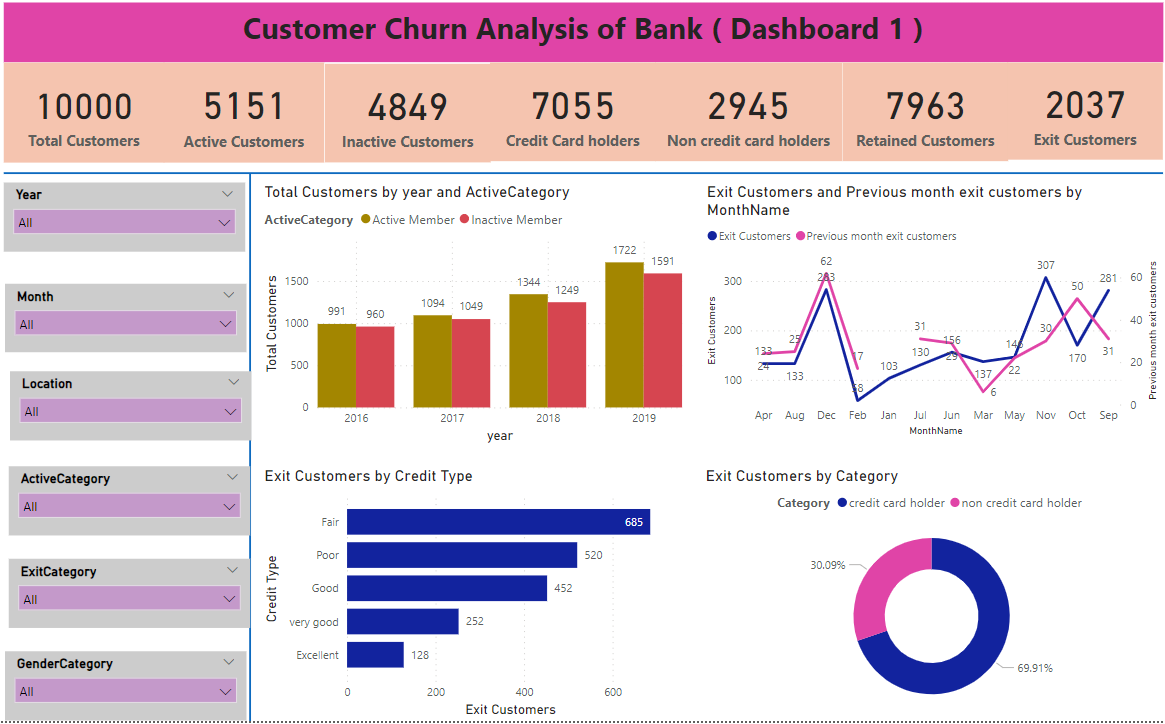

Layout of this report page (visuals, bound fields, positions):
{"tool":"powerbi","page":{"name":"Dashboard 1","canvas":[1280,800],"ordinal":0},"visuals":[{"type":"card","fields":{"Values":["Calculations.Total Customers"]},"box":[9.6,83.7,174.3,108.4],"z":0},{"type":"card","fields":{"Values":["Calculations.Active Customers"]},"box":[183.9,83.7,174.3,108.4],"z":1000},{"type":"card","fields":{"Values":["Calculations.Inactive Customers"]},"box":[358.1,85.1,179.8,107],"z":2000},{"type":"textbox","box":[9.6,19.2,1259.7,64.5],"z":3000},{"type":"card","fields":{"Values":["Calculations.Credit Card holders"]},"box":[537.9,83.7,179.8,107],"z":4000},{"type":"card","fields":{"Values":["Calculations.Non credit card holders"]},"box":[717.7,83.7,203.1,107],"z":5000},{"type":"card","fields":{"Values":["Calculations.Retained Customers"]},"box":[920.8,83.7,179.8,107],"z":6000},{"type":"card","fields":{"Values":["Calculations.Exit Customers"]},"box":[1100.5,83.7,168.8,105.7],"z":7000},{"type":"shape","box":[9.6,137.2,1259.7,134.5],"z":8000},{"type":"shape","box":[0,204.5,554.4,595.5],"z":9000},{"type":"slicer","fields":{"Values":["DateMasters.year"]},"box":[9.6,214.1,262.1,75.5],"z":10000},{"type":"slicer","fields":{"Values":["DateMasters.MonthName"]},"box":[11,325.2,262.1,74.1],"z":11000},{"type":"slicer","fields":{"Values":["Geography.GeographyLocation"]},"box":[16.5,419.9,262.1,75.5],"z":12000},{"type":"slicer","fields":{"Values":["ActiveCustomer.ActiveCategory"]},"box":[15.1,522.8,262.1,75.5],"z":13000},{"type":"slicer","fields":{"Values":["ExitCustomer.ExitCategory"]},"box":[15.1,623,262.1,75.5],"z":14000},{"type":"slicer","fields":{"Values":["Gender.GenderCategory"]},"box":[11,724.5,262.1,75.5],"z":15000},{"type":"clusteredColumnChart","fields":{"Y":["Calculations.Total Customers"],"Series":["ActiveCustomer.ActiveCategory"],"Category":["DateMasters.year","DateMasters.MonthName"]},"box":[288.2,214.1,463.8,288.2],"z":16000},{"type":"lineChart","fields":{"Y":["Calculations.Exit Customers"],"Category":["DateMasters.MonthName"],"Y2":["Calculations.Previous month exit customers"]},"box":[768.4,214.1,500.9,281.3],"z":17000},{"type":"clusteredBarChart","fields":{"Category":["Bank_Churn.Credit Type"],"Y":["Calculations.Exit Customers"]},"box":[288.2,522.8,465.2,277.2],"z":18000},{"type":"donutChart","fields":{"Category":["CreditCard.Category"],"Y":["Calculations.Exit Customers"]},"box":[768,523,501,277],"z":19000}]}

Visuals, with their boxes in screenshot pixels (x1, y1, x2, y2), scaled from the page's 1280x800 canvas onto the 1165x724 screenshot:
card - Calculations.Total Customers: (x1=9, y1=76, x2=167, y2=174)
card - Calculations.Active Customers: (x1=167, y1=76, x2=326, y2=174)
card - Calculations.Inactive Customers: (x1=326, y1=77, x2=490, y2=174)
textbox: (x1=9, y1=17, x2=1155, y2=76)
card - Calculations.Credit Card holders: (x1=490, y1=76, x2=653, y2=173)
card - Calculations.Non credit card holders: (x1=653, y1=76, x2=838, y2=173)
card - Calculations.Retained Customers: (x1=838, y1=76, x2=1002, y2=173)
card - Calculations.Exit Customers: (x1=1002, y1=76, x2=1155, y2=171)
shape: (x1=9, y1=124, x2=1155, y2=246)
shape: (x1=0, y1=185, x2=505, y2=723)
slicer - DateMasters.year: (x1=9, y1=194, x2=247, y2=262)
slicer - DateMasters.MonthName: (x1=10, y1=294, x2=249, y2=361)
slicer - Geography.GeographyLocation: (x1=15, y1=380, x2=254, y2=448)
slicer - ActiveCustomer.ActiveCategory: (x1=14, y1=473, x2=252, y2=541)
slicer - ExitCustomer.ExitCategory: (x1=14, y1=564, x2=252, y2=632)
slicer - Gender.GenderCategory: (x1=10, y1=656, x2=249, y2=723)
clusteredColumnChart - Calculations.Total Customers x ActiveCustomer.ActiveCategory: (x1=262, y1=194, x2=684, y2=455)
lineChart - Calculations.Exit Customers x DateMasters.MonthName: (x1=699, y1=194, x2=1155, y2=448)
clusteredBarChart - Bank_Churn.Credit Type x Calculations.Exit Customers: (x1=262, y1=473, x2=686, y2=723)
donutChart - CreditCard.Category x Calculations.Exit Customers: (x1=699, y1=473, x2=1155, y2=723)
